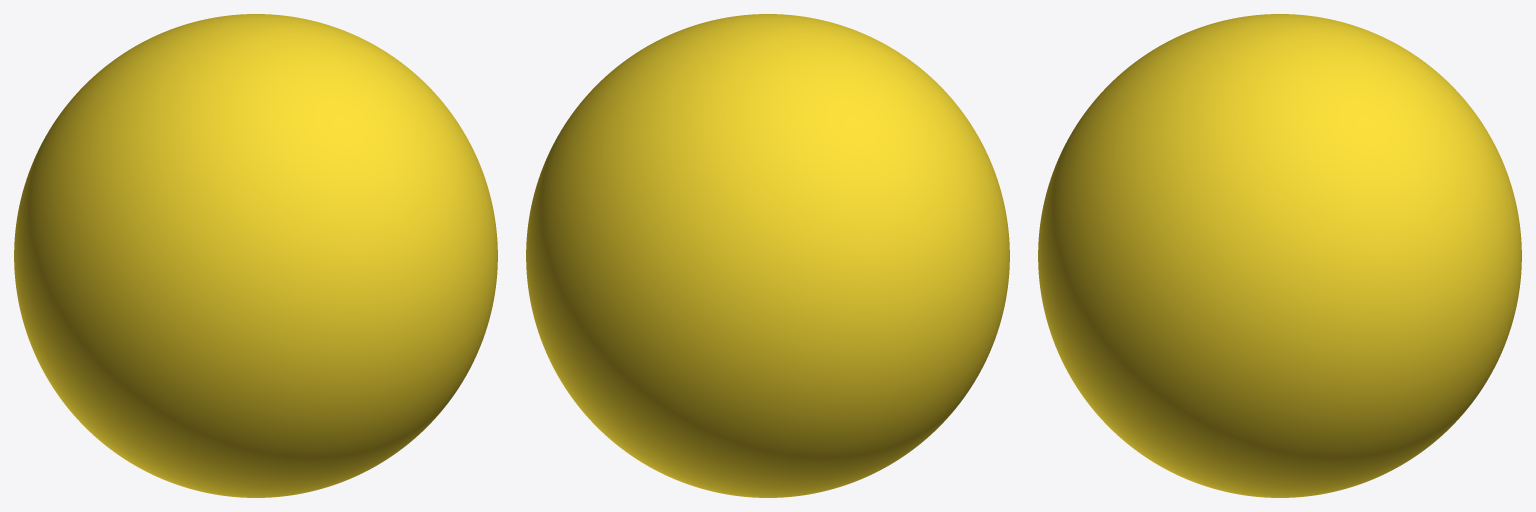
Rendered from BilliardBall_Yellow.fbx.
3 views of the same model, side by side, from view 1: azimuth 30°, elevation 25°; view 2: azimuth 150°, elevation 25°; view 3: azimuth 270°, elevation 25° (orthographic).
Visible parts, largest first — view 1: BilliardBall_Yellow; view 2: BilliardBall_Yellow; view 3: BilliardBall_Yellow.
Part boxes in pixels (x1,y1,x2,y2): BilliardBall_Yellow: [14, 14, 497, 497]; BilliardBall_Yellow: [526, 14, 1009, 497]; BilliardBall_Yellow: [1038, 14, 1521, 497].
Bounding box in the file's own units: 0.0615 × 0.0615 × 0.0615.
